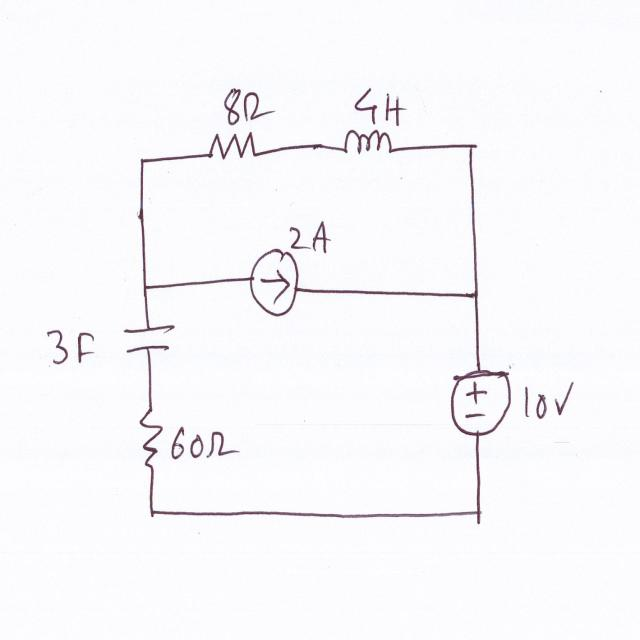capacitor: (119, 316, 179, 359)
current_source: (246, 242, 302, 321)
inductor: (336, 123, 398, 164)
resistor: (200, 127, 265, 171), (131, 402, 169, 476)
voltage_source: (444, 361, 516, 442)
